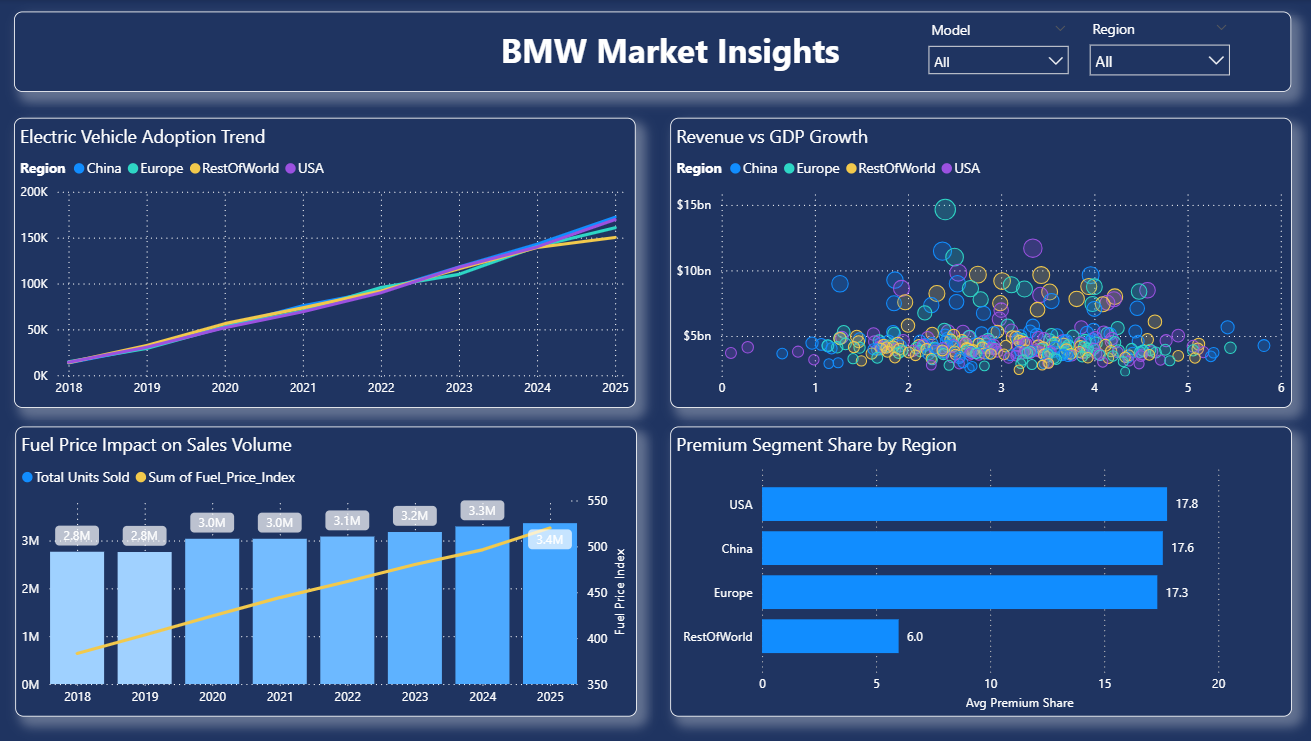

What the dashboard file says about the page in this screenshot:
{"tool":"powerbi","page":{"name":"Market Insights","canvas":[1280,720],"ordinal":2},"visuals":[{"type":"shape","box":[24.1,12.1,1233,77.2],"z":0},{"type":"textbox","box":[452.4,22.9,410.2,53.1],"z":1000},{"type":"lineChart","title":"Electric Vehicle Adoption Trend","fields":{"Category":["Bmw Sales.Year"],"Series":["Dim_Region.Region"],"Y":["_Measures.BEV Units Sold"]},"box":[24.1,114.6,599.6,279.9],"z":2000},{"type":"scatterChart","title":"Revenue vs GDP Growth","fields":{"X":["Bmw Sales.GDP_Growth"],"Y":["_Measures.Total Revenue"],"Size":["_Measures.Total Units Sold"],"Series":["Bmw Sales.Region"]},"box":[657.5,114.6,599.6,279.9],"z":3000},{"type":"lineClusteredColumnComboChart","title":"Fuel Price Impact on Sales Volume","fields":{"Category":["Bmw Sales.Year"],"Y":["_Measures.Total Units Sold"],"Y2":["Sum(Bmw Sales.Fuel_Price_Index)"]},"box":[25.3,412.6,599.6,279.9],"z":4000},{"type":"clusteredBarChart","title":"Premium Segment Share by Region","fields":{"Y":["_Measures.Avg Premium Share"],"Category":["Dim_Region.Region"]},"box":[657.5,412.6,599.6,279.9],"z":5000},{"type":"slicer","fields":{"Values":["Dim_Region.Region"]},"box":[1052,14.5,155.6,65.1],"z":6000},{"type":"slicer","fields":{"Values":["Dim_Model.Model"]},"box":[896.4,15.7,155.6,62.7],"z":7000}]}

Visuals, with their boxes in screenshot pixels (x1, y1, x2, y2), scaled from the page's 1280x720 canvas onto the 1311x741 screenshot:
shape: [25, 12, 1288, 92]
textbox: [463, 24, 883, 78]
"Electric Vehicle Adoption Trend" lineChart: [25, 118, 639, 406]
"Revenue vs GDP Growth" scatterChart: [673, 118, 1288, 406]
"Fuel Price Impact on Sales Volume" lineClusteredColumnComboChart: [26, 425, 640, 713]
"Premium Segment Share by Region" clusteredBarChart: [673, 425, 1288, 713]
slicer - Dim_Region.Region: [1077, 15, 1237, 82]
slicer - Dim_Model.Model: [918, 16, 1077, 81]
